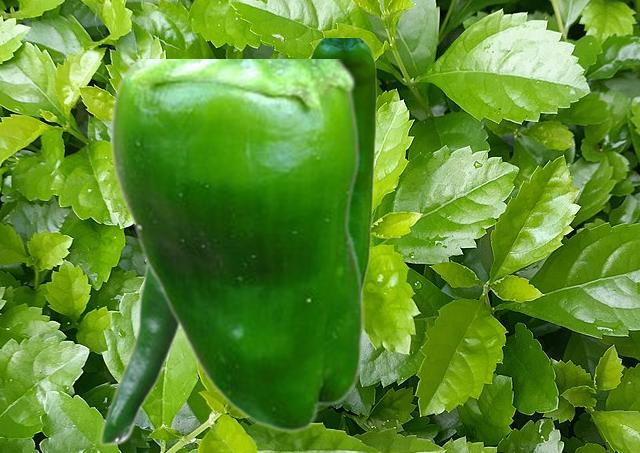green_chili: (108, 59, 363, 432), (309, 38, 376, 287), (98, 260, 179, 445)
